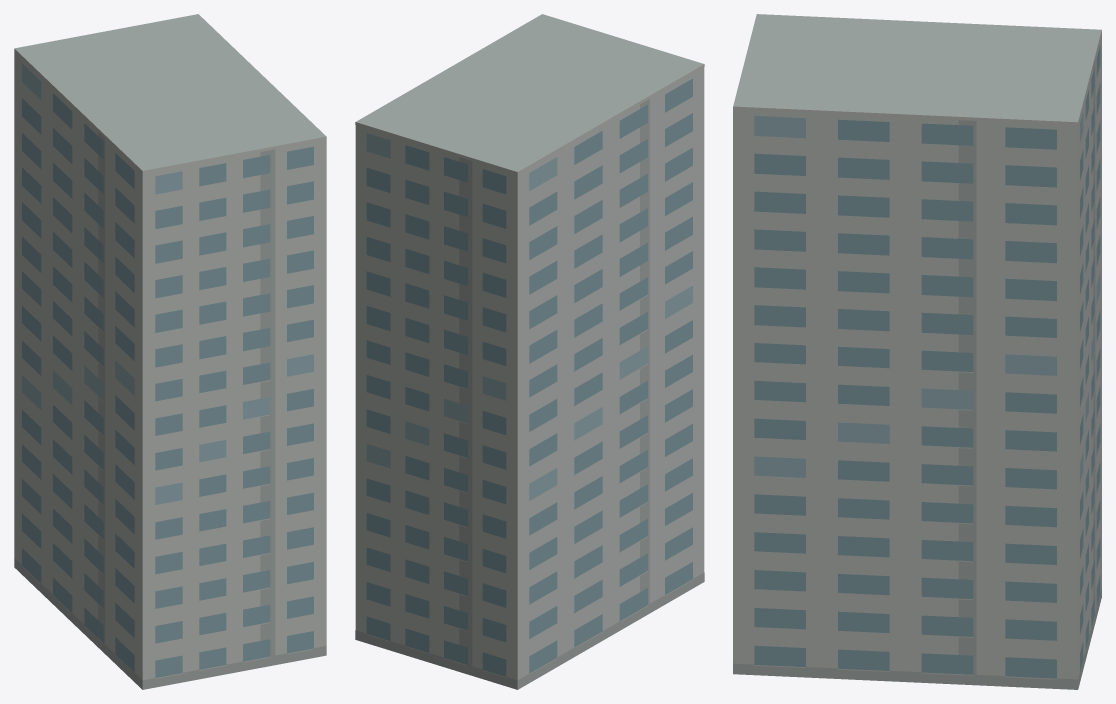
Rendered from residential-c8763adb-a13c-444c-b373-b636e1bd1e7e.glb.
3 renders of one model, left to right at view 1: azimuth 30°, elevation 25°; view 2: azimuth 150°, elevation 25°; view 3: azimuth 270°, elevation 25°, orthographic. The views are drawn at different scales.
Parts seen in each view (by area): view 1: residential-c8763adb-a13c-444c-b373-b636e1bd1e7e.tmp; view 2: residential-c8763adb-a13c-444c-b373-b636e1bd1e7e.tmp; view 3: residential-c8763adb-a13c-444c-b373-b636e1bd1e7e.tmp.
Part boxes in pixels (bbox=[...]): residential-c8763adb-a13c-444c-b373-b636e1bd1e7e.tmp: bbox=[14, 14, 326, 689]; residential-c8763adb-a13c-444c-b373-b636e1bd1e7e.tmp: bbox=[355, 14, 704, 689]; residential-c8763adb-a13c-444c-b373-b636e1bd1e7e.tmp: bbox=[733, 14, 1101, 689].
Bounding box in the file's own units: 17.19 × 42 × 24.74.
